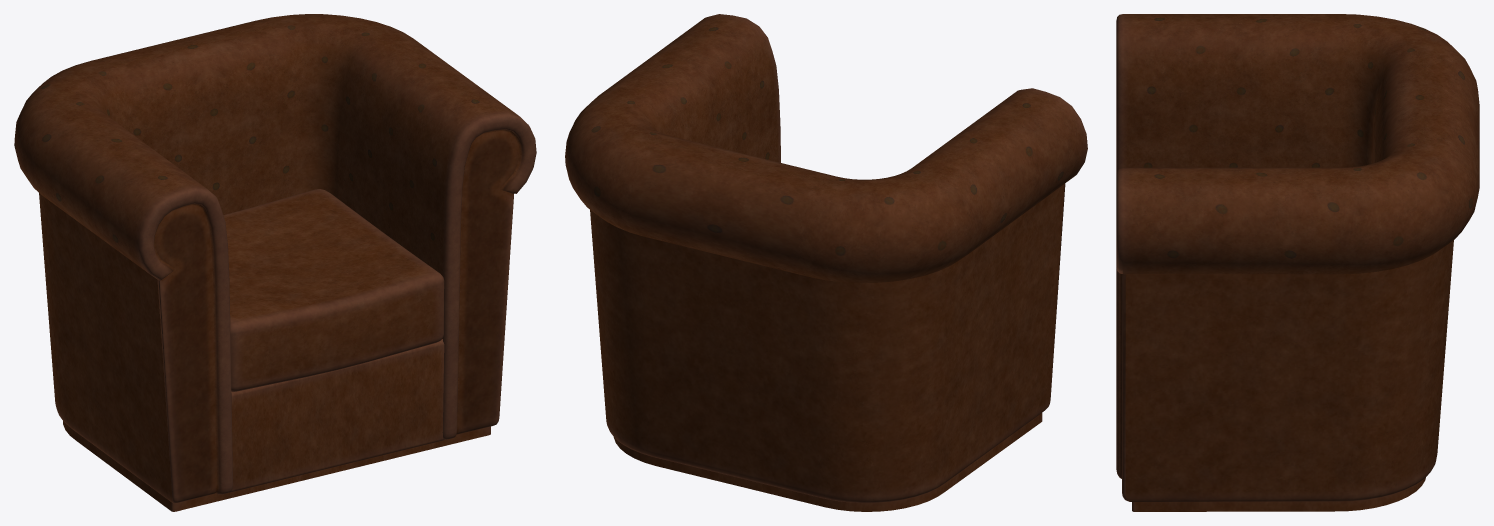
Rendered from SofaRetro01_2.FBX.
3 views of the same model, side by side, from view 1: azimuth 30°, elevation 25°; view 2: azimuth 150°, elevation 25°; view 3: azimuth 270°, elevation 25° (orthographic). The views are drawn at different scales.
Parts seen in each view (by area): view 1: SofaRetro01_2; view 2: SofaRetro01_2; view 3: SofaRetro01_2.
Part boxes in pixels (x1,y1,x2,y2): SofaRetro01_2: (14,14,536,511); SofaRetro01_2: (565,14,1087,511); SofaRetro01_2: (1116,14,1479,511).
Bounding box in the file's own units: 1291 × 1007 × 991.
